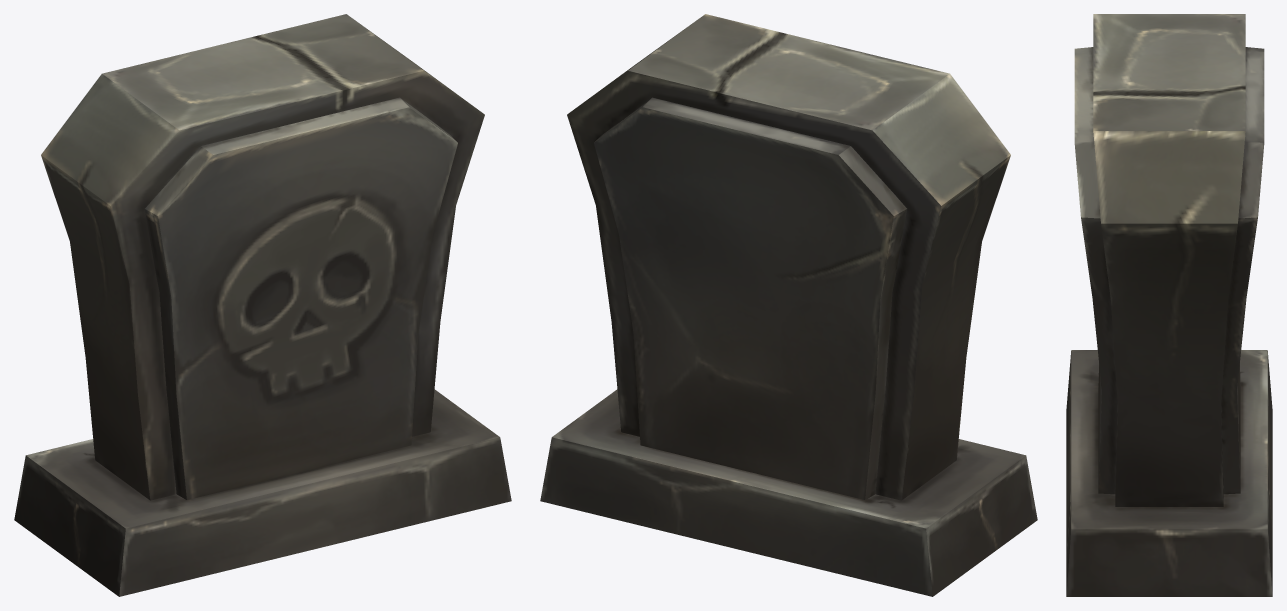
The model's file is 08_tombstone.FBX.
The picture shows the model from 3 angles, left to right: view 1: azimuth 30°, elevation 25°; view 2: azimuth 150°, elevation 25°; view 3: azimuth 270°, elevation 25°; orthographic projection.
Visible parts, largest first — view 1: 08_tombstone; view 2: 08_tombstone; view 3: 08_tombstone.
Boxes of the visible parts, x1=… form: 08_tombstone: x1=14, y1=14, x2=511, y2=596; 08_tombstone: x1=540, y1=14, x2=1037, y2=596; 08_tombstone: x1=1066, y1=14, x2=1272, y2=596.
Bounding box in the file's own units: 43.37 × 46.29 × 20.08.
